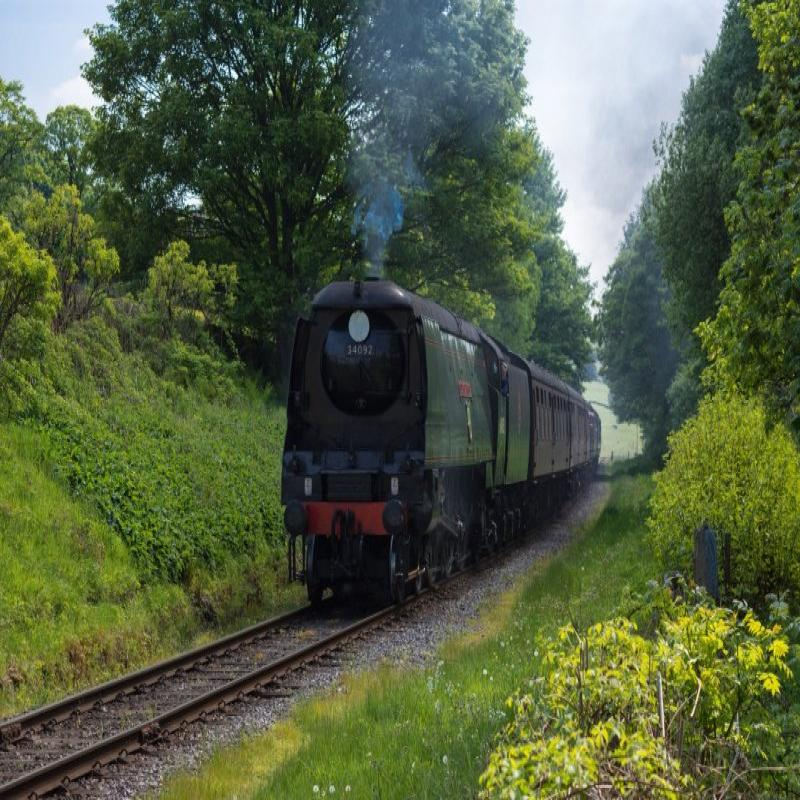train: (281, 244, 547, 611)
